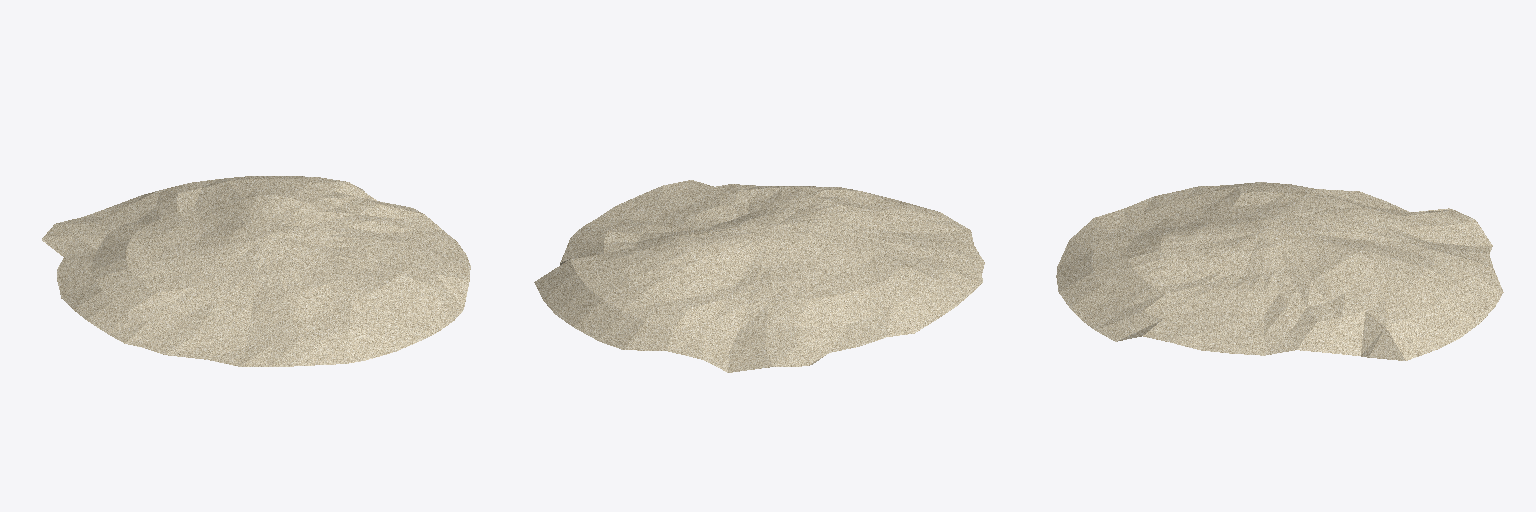
3 renders of one model, left to right at view 1: azimuth 30°, elevation 25°; view 2: azimuth 150°, elevation 25°; view 3: azimuth 270°, elevation 25°, orthographic.
Visible parts, largest first — view 1: ground_hight.001; view 2: ground_hight.001; view 3: ground_hight.001.
Boxes of the visible parts, x1,y1,x2,y2 form: ground_hight.001: [42, 176, 470, 366]; ground_hight.001: [534, 180, 984, 372]; ground_hight.001: [1056, 182, 1503, 360].
Size of the model in its own units: 12.65 by 1.66 by 13.67.
Materials: 1 (1 with a texture image).